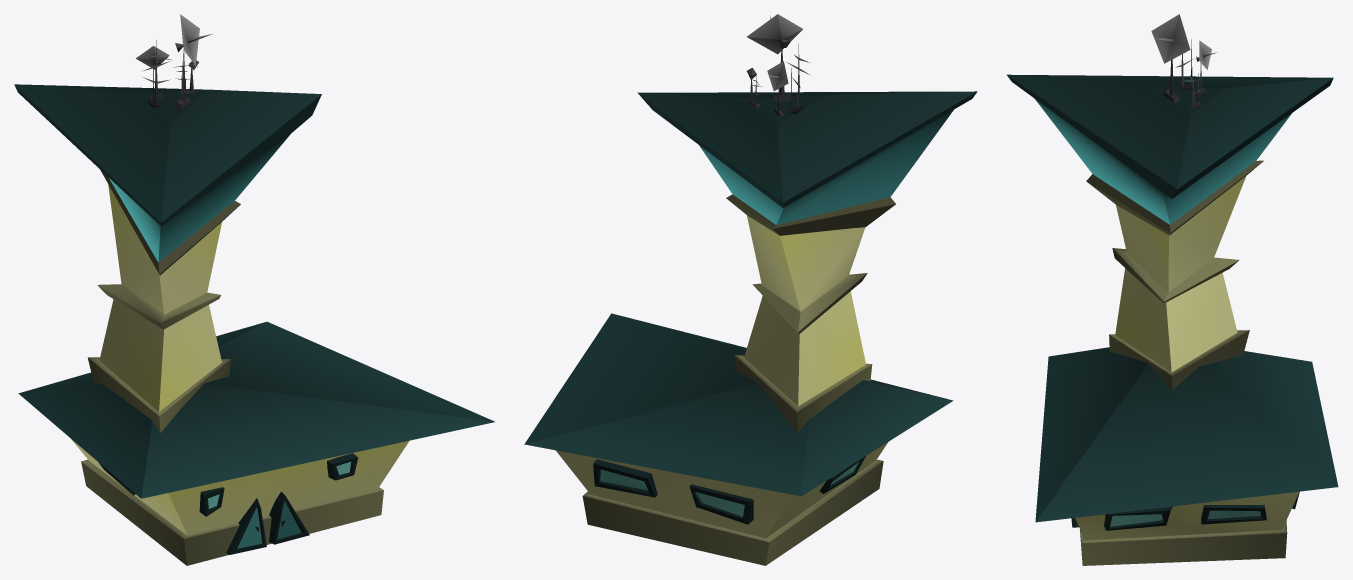
The model's file is c_airport_tower_aa.fbx.
3 renders of one model, left to right at view 1: azimuth 30°, elevation 25°; view 2: azimuth 150°, elevation 25°; view 3: azimuth 270°, elevation 25°, orthographic. The views are drawn at different scales.
Visible parts, largest first — view 1: c_airport_tower_aa; view 2: c_airport_tower_aa; view 3: c_airport_tower_aa.
Part boxes in pixels (x1,y1,x2,y2): c_airport_tower_aa: [14, 14, 494, 565]; c_airport_tower_aa: [524, 14, 977, 565]; c_airport_tower_aa: [1007, 14, 1338, 565].
Bounding box in the file's own units: 16.69 × 22.85 × 14.28.
